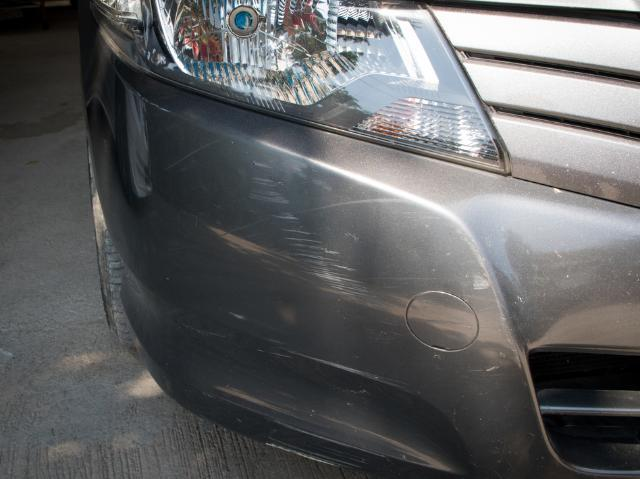Bumper: (234, 166, 374, 301)
